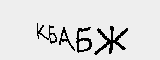А: (55, 26, 77, 51)
Б: (75, 27, 93, 54), (47, 22, 57, 46)
Ж: (95, 24, 129, 56)
К: (35, 19, 47, 43)
